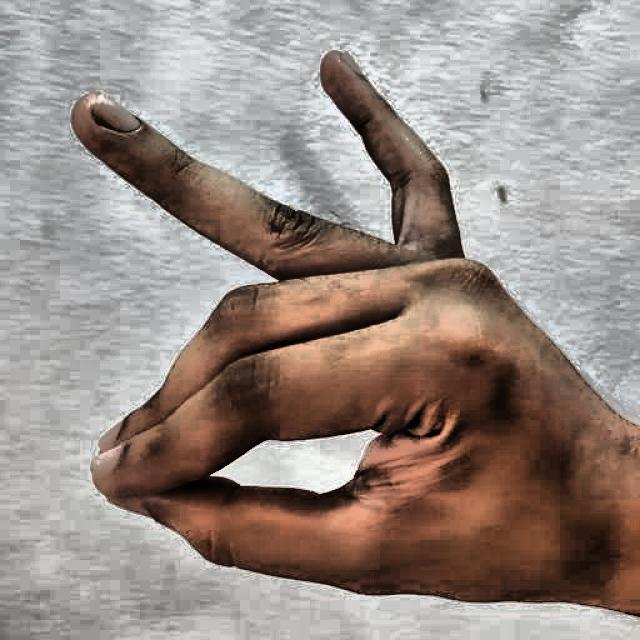Na: (54, 35, 617, 635)
